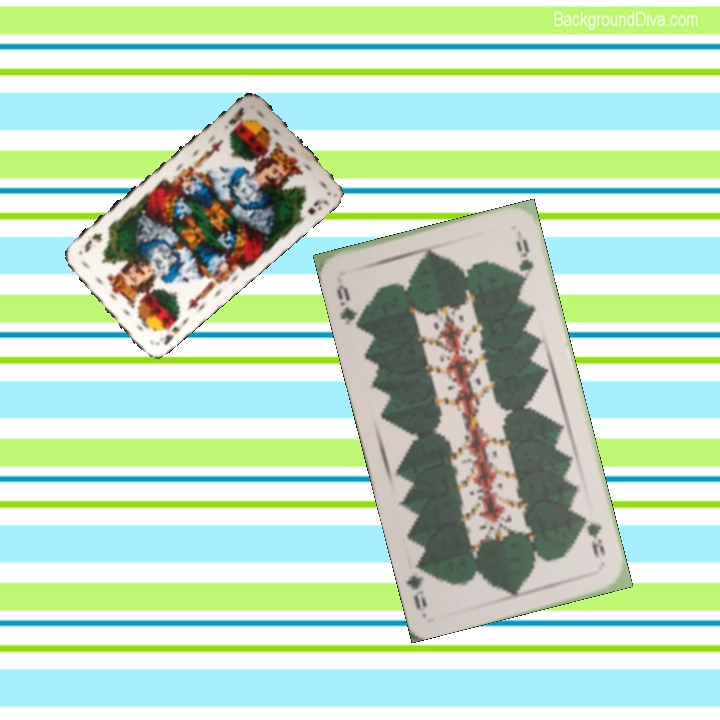G9: (333, 280, 364, 330), (579, 512, 608, 560)
SK: (160, 313, 188, 348), (224, 103, 246, 127)
